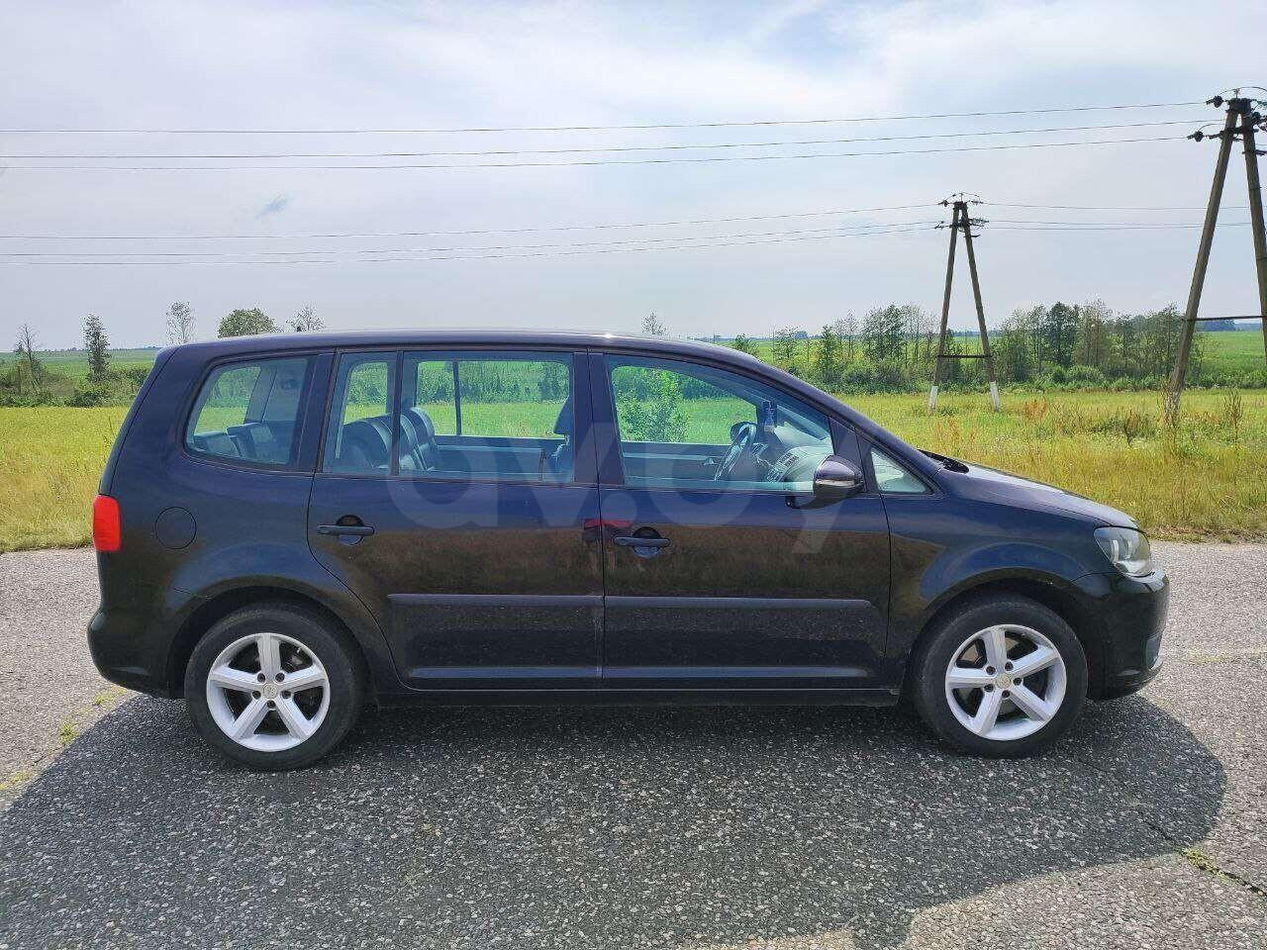Touran_2010-2015: (83, 324, 1180, 774)
